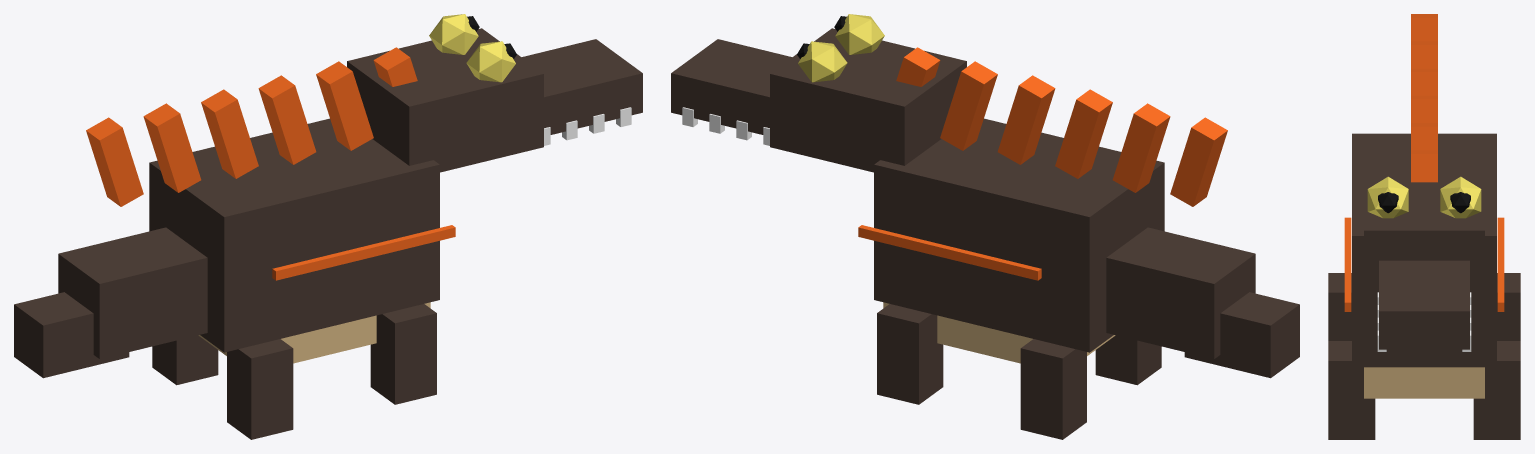
Rendered from level2.glb.
3 renders of one model, left to right at view 1: azimuth 30°, elevation 25°; view 2: azimuth 150°, elevation 25°; view 3: azimuth 270°, elevation 25°, orthographic. The views are drawn at different scales.
Size of the model in its own units: 1.97 by 0.9802 by 0.572.
